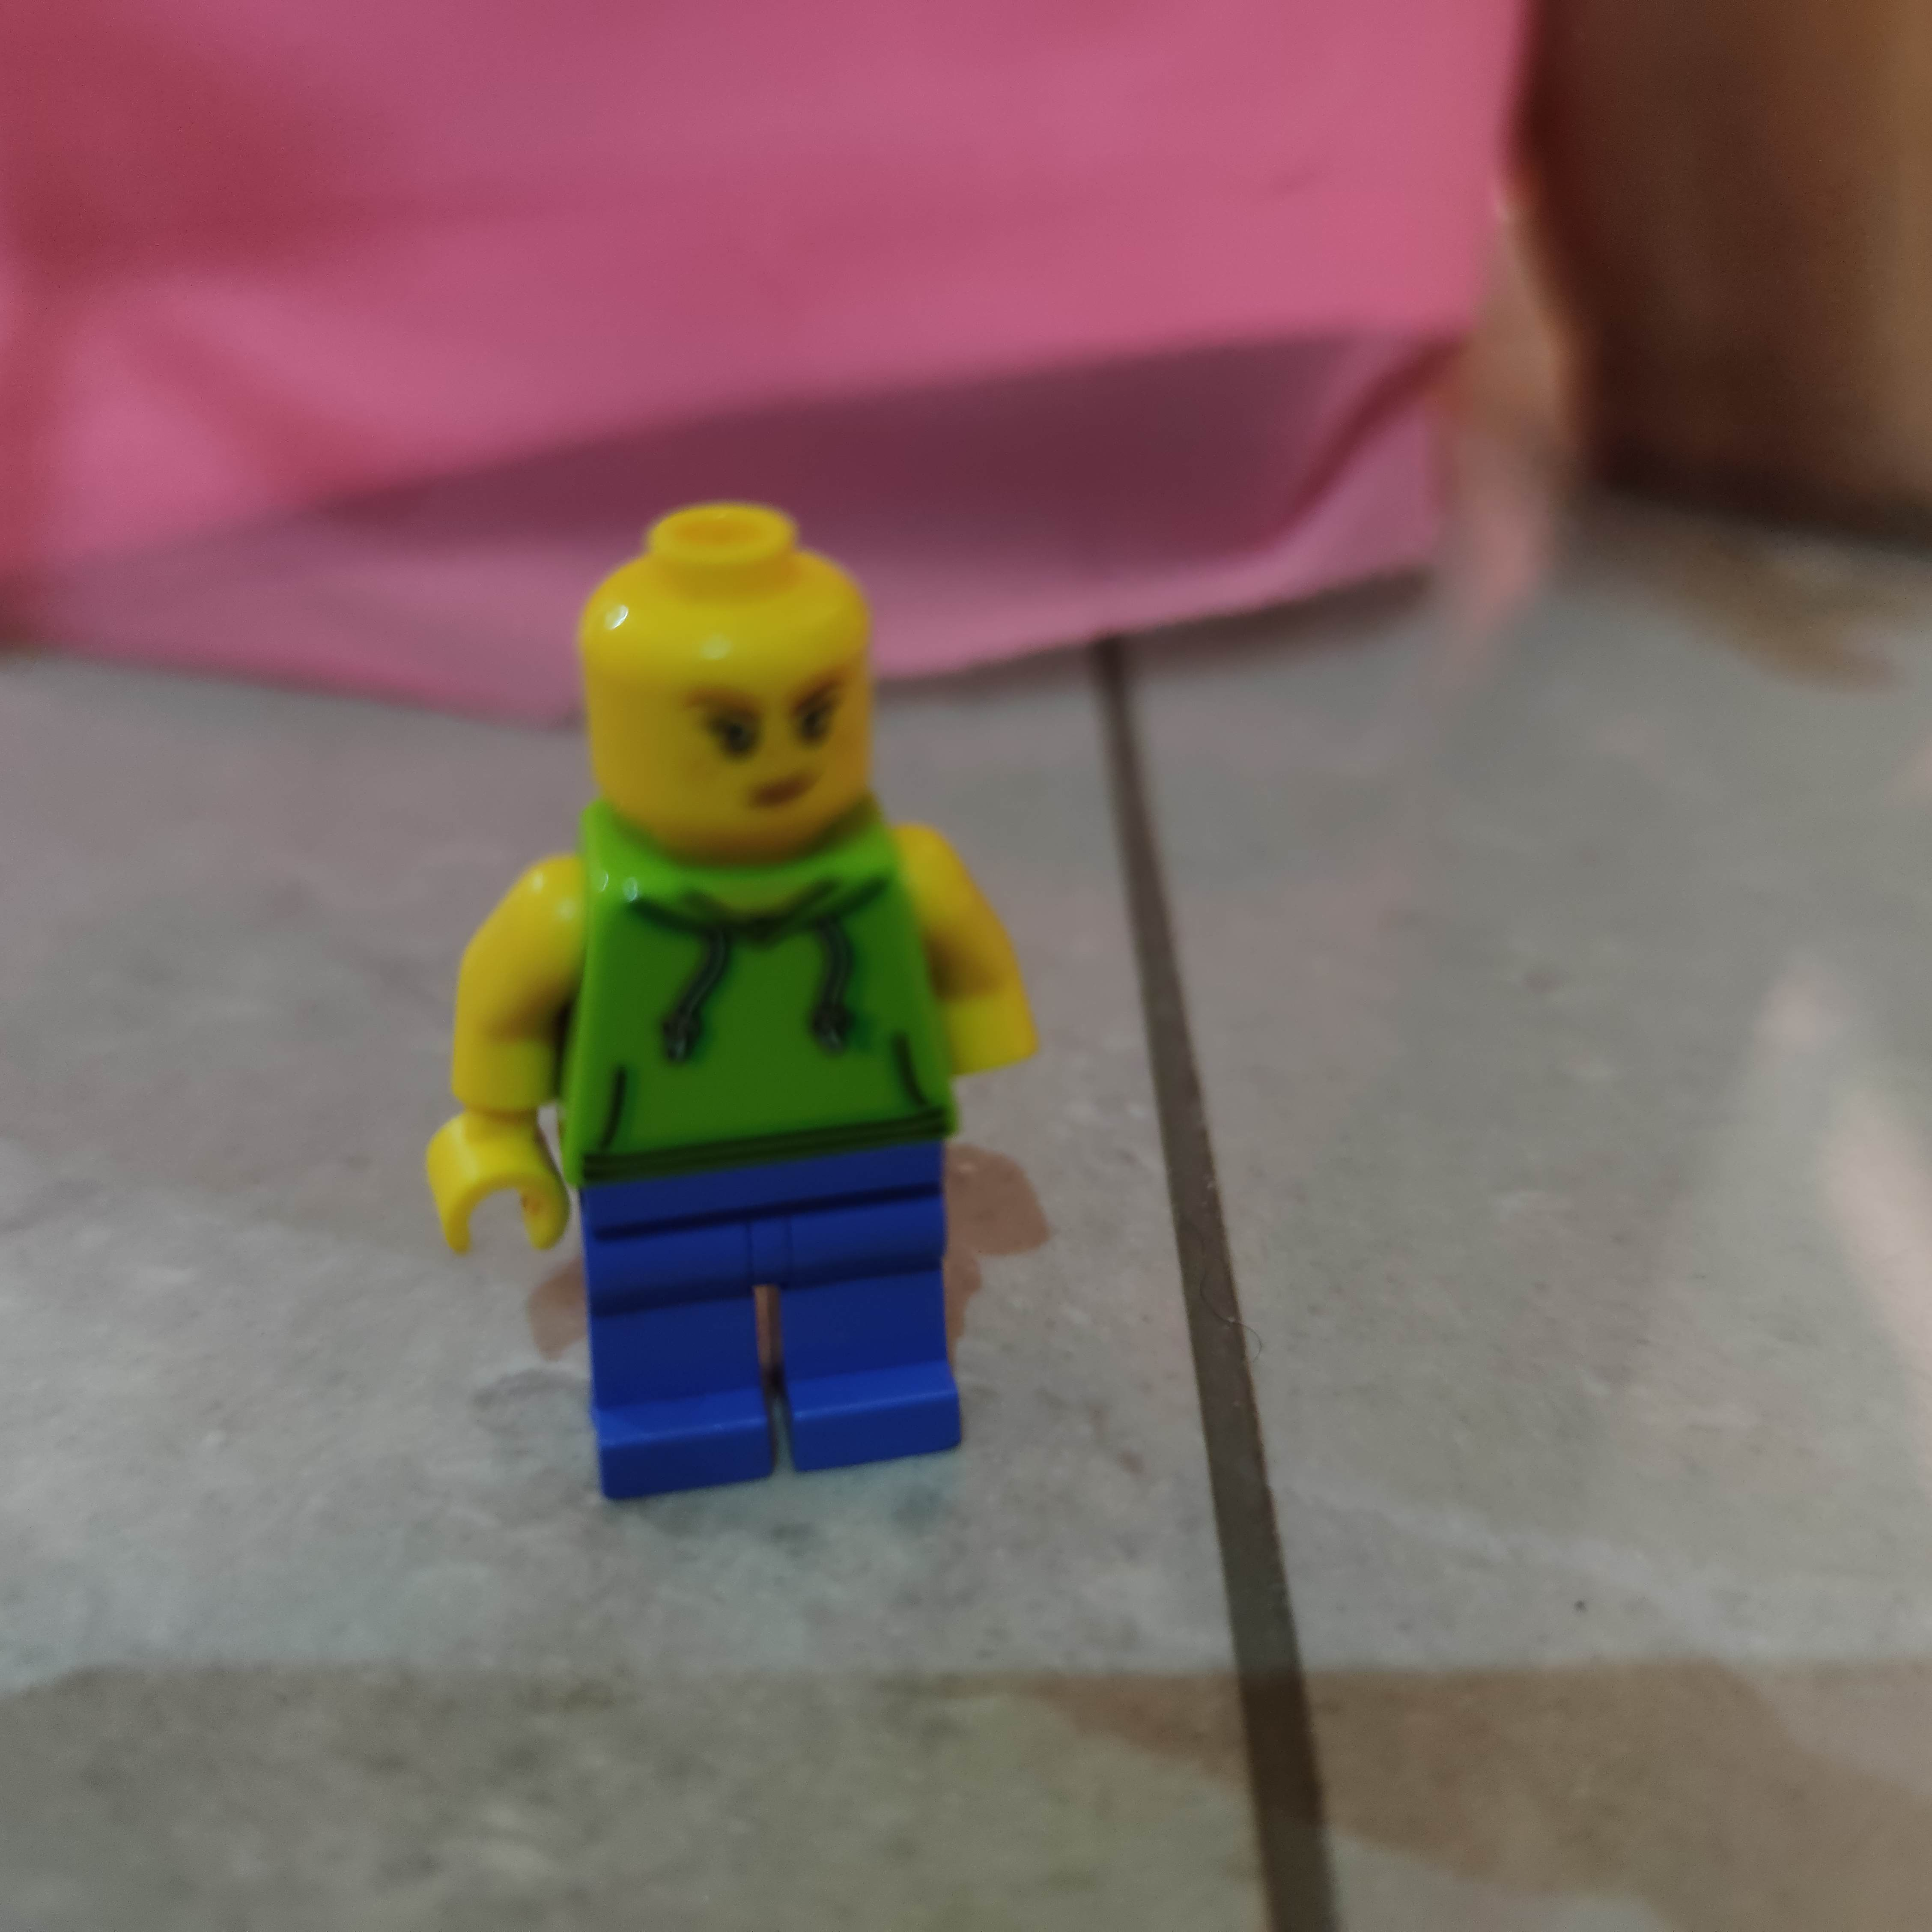lego: (419, 497, 1046, 1513)
